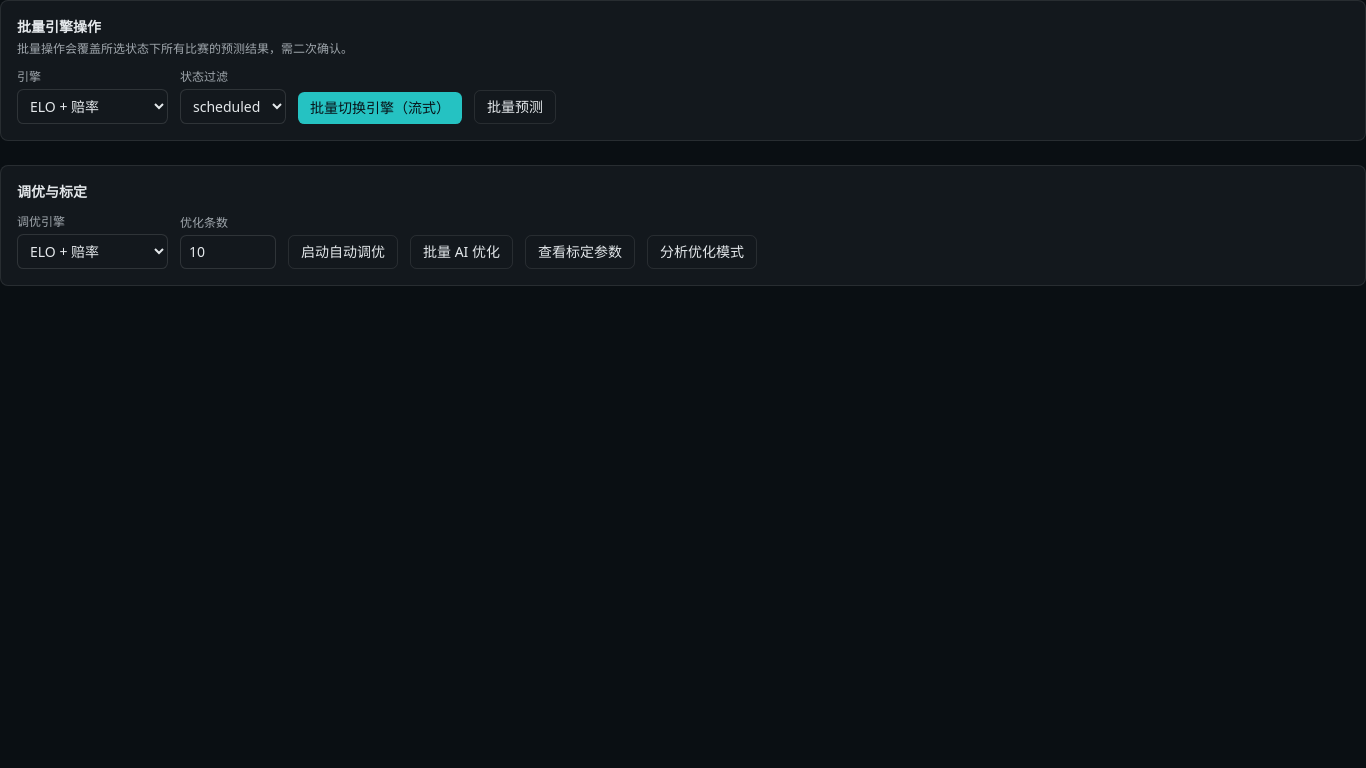
Scenario: EngineConsole › runs the batch predict and reports the summary after confirming
This screenshot has width=1366, height=768.
Click the button with test id "batch-predict-button" at point(515, 107), box [474,90,556,124]
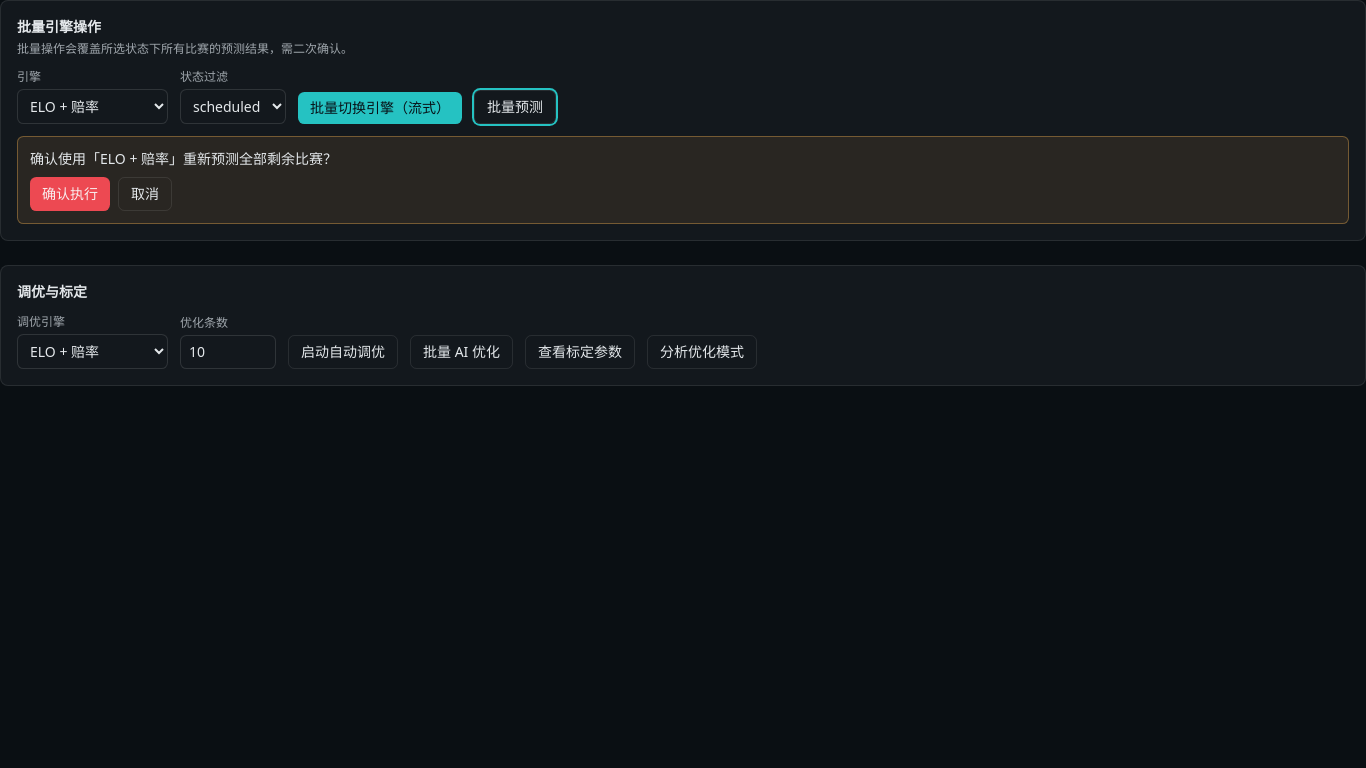
Click the button with test id "engine-confirm-yes" at point(70, 194), box [30,177,110,211]
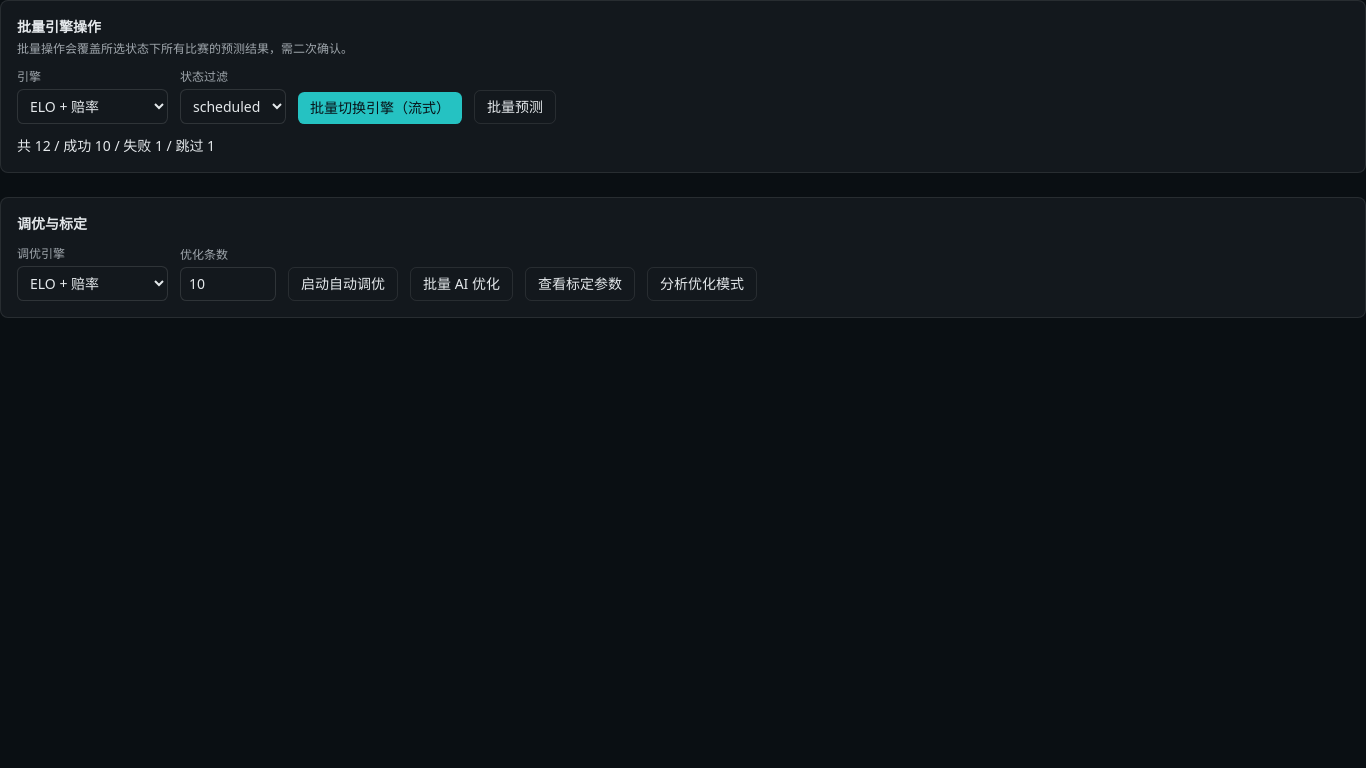
Now the text "共 12 / 成功 10 / 失败 1 / 跳过 1" is shown, box [17,136,215,155]
